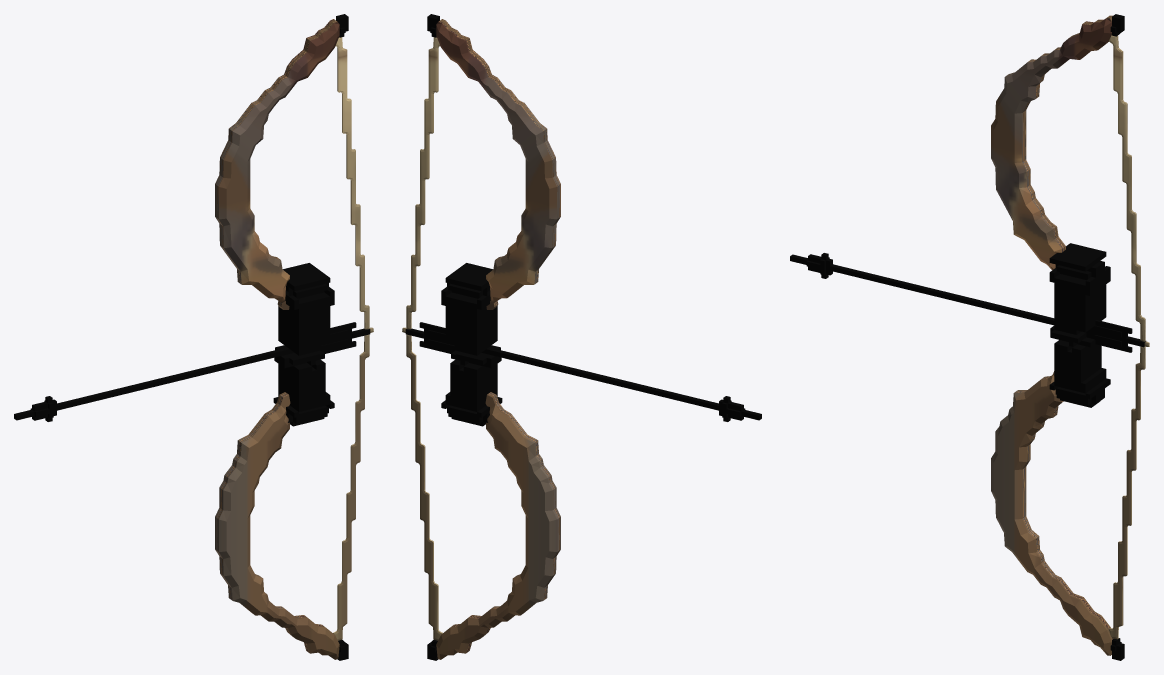
The model's file is laminated_horn_bow_pulling_0.obj.
The picture shows the model from 3 angles, left to right: view 1: azimuth 30°, elevation 25°; view 2: azimuth 150°, elevation 25°; view 3: azimuth 330°, elevation 25°; orthographic projection.
Visible parts, largest first — view 1: laminated_horn_bow_pulling_0; view 2: laminated_horn_bow_pulling_0; view 3: laminated_horn_bow_pulling_0.
Part boxes in pixels (box(x1,y1,x2,y2)): laminated_horn_bow_pulling_0: box(14, 14, 373, 660); laminated_horn_bow_pulling_0: box(402, 14, 761, 660); laminated_horn_bow_pulling_0: box(790, 14, 1149, 660).
Size of the model in its own units: 0.833 by 1.43 by 0.0833.
